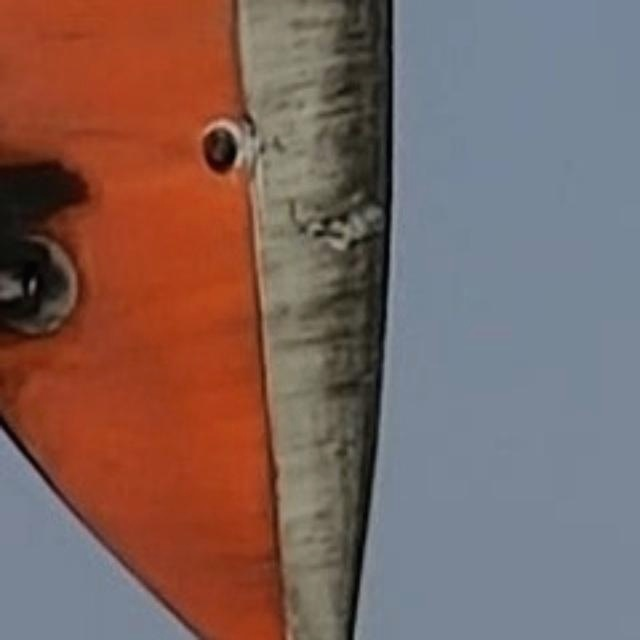Burn Mark: (6, 150, 70, 373)
Coating_defects: (189, 126, 246, 174)
EROSION: (301, 187, 402, 274)
